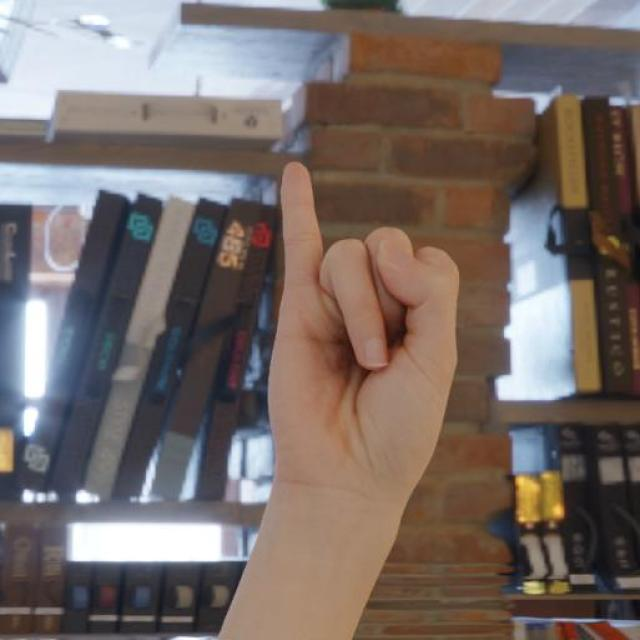I: (243, 146, 481, 554)
